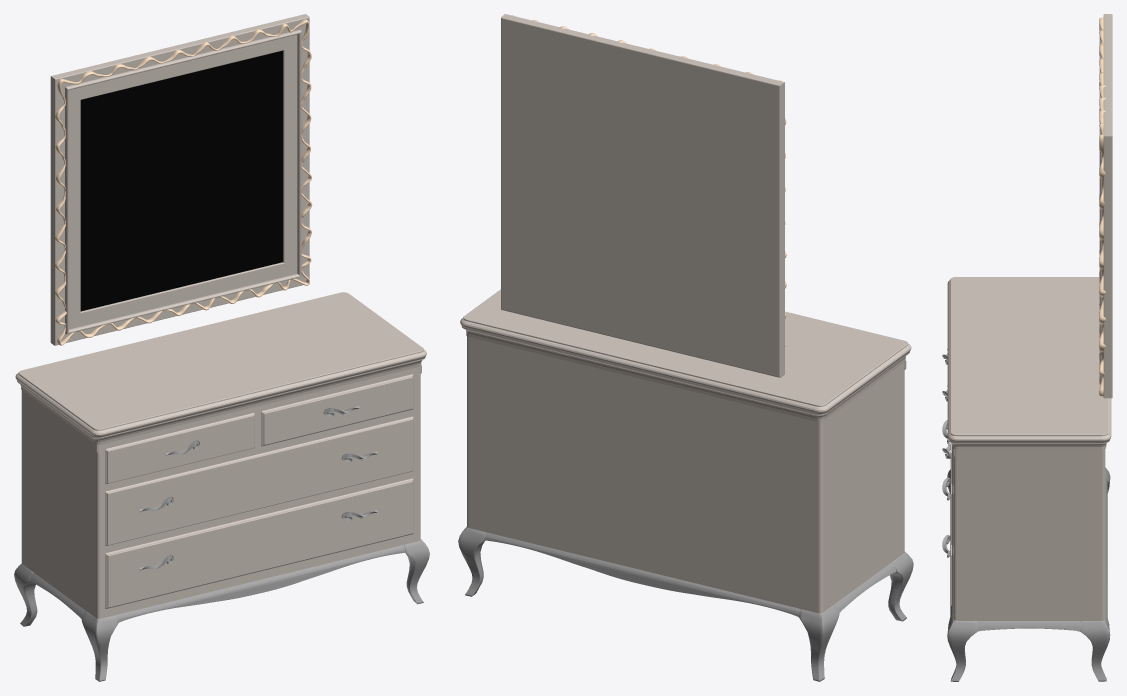
File: komod and mirror Frari.FBX
The picture shows the model from 3 angles, left to right: view 1: azimuth 30°, elevation 25°; view 2: azimuth 150°, elevation 25°; view 3: azimuth 270°, elevation 25°; orthographic projection. The views are drawn at different scales.
Parts seen in each view (by area): view 1: Box019, Box043, Line021, Box015, Line050, Line051, Box018, Line052, Line053, Box016; view 2: Box019, Box043, Line026, Box016, Box017, Box015; view 3: Box019, Box043, Box018, Line051, Box017, Line023, Line052, Line026.
Part boxes in pixels (<box>): Box019: <box>15,292,426,618</box>; Box043: <box>50,14,309,345</box>; Line021: <box>117,545,405,622</box>; Box015: <box>81,611,118,681</box>; Line050: <box>55,78,79,345</box>; Line051: <box>295,19,312,285</box>; Box018: <box>404,539,429,604</box>; Line052: <box>76,23,295,84</box>; Line053: <box>71,278,295,337</box>; Box016: <box>14,564,37,626</box>; Box019: <box>460,289,911,613</box>; Box043: <box>501,14,784,377</box>; Line026: <box>484,532,800,617</box>; Box016: <box>799,604,839,681</box>; Box017: <box>458,526,485,596</box>; Box015: <box>888,551,913,621</box>; Box019: <box>947,277,1111,620</box>; Box043: <box>1099,14,1112,398</box>; Box018: <box>947,612,976,681</box>; Line051: <box>1099,134,1105,396</box>; Box017: <box>1080,614,1110,681</box>; Line023: <box>977,621,1081,631</box>; Line052: <box>1099,27,1105,134</box>; Line026: <box>1105,476,1107,618</box>.
Bounding box in the file's own units: 1250 × 1917 × 560.
